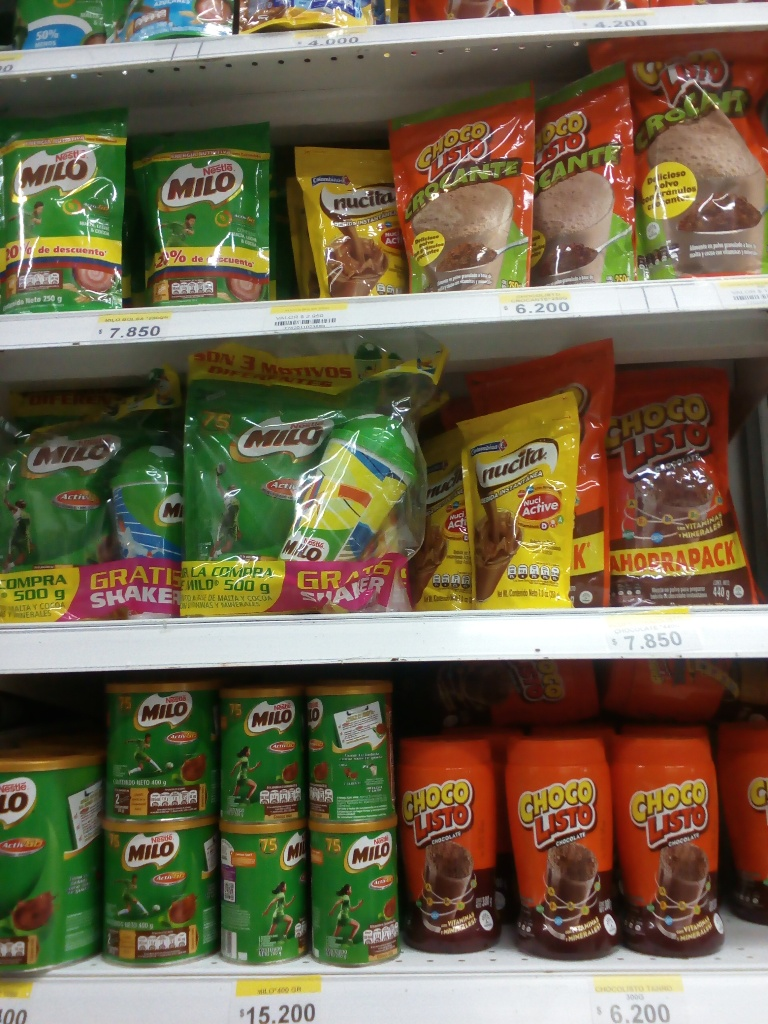COL0170102DYP25000: (530, 71, 639, 288)
COL0170102DYP50000: (589, 35, 768, 280)
COL0170103DYP44000: (607, 364, 763, 606)
COL0170103TRR30000: (611, 726, 736, 955)
COL0170203DYP50000: (185, 386, 325, 563)
COL0170203LAT20000: (303, 819, 406, 968)
COL0170203LAT40000: (97, 812, 218, 971)
